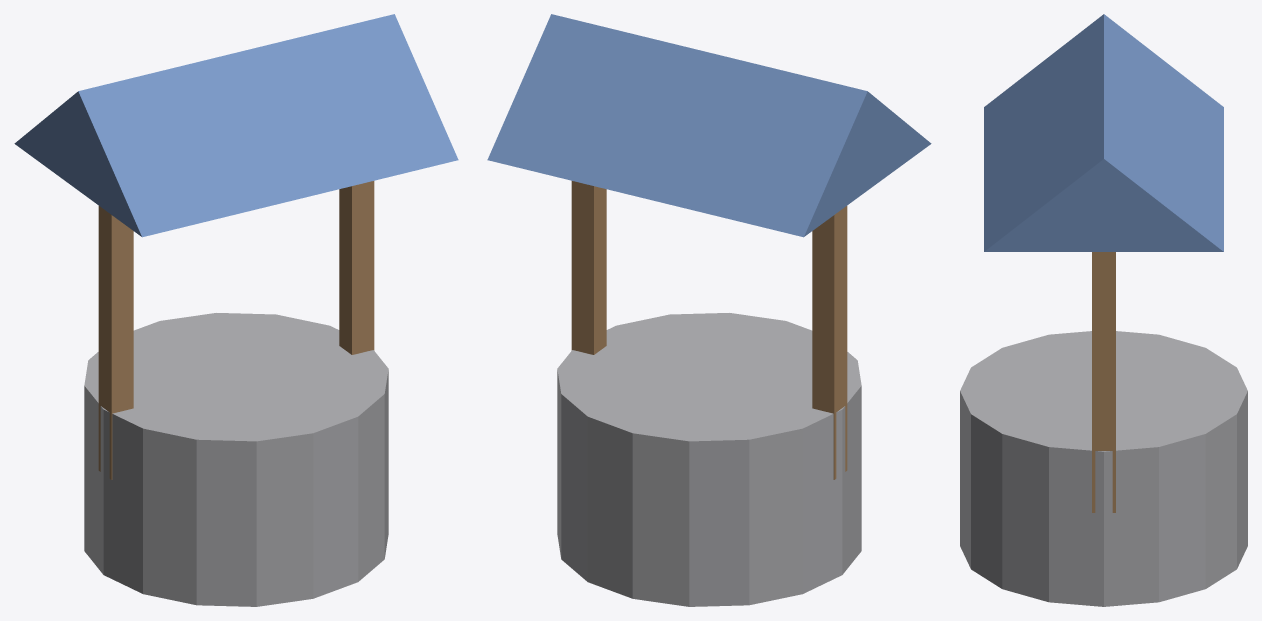
The model's file is well.glb.
3 views of the same model, side by side, from view 1: azimuth 30°, elevation 25°; view 2: azimuth 150°, elevation 25°; view 3: azimuth 270°, elevation 25° (orthographic). The views are drawn at different scales.
Visible parts, largest first — view 1: ring, roof, post-0.38, post0.38; view 2: ring, roof, post-0.38, post0.38; view 3: ring, roof, post0.38.
Boxes of the visible parts, bbox=[...] form: ring: bbox=[84, 313, 388, 606]; roof: bbox=[14, 14, 458, 237]; post-0.38: bbox=[98, 206, 133, 479]; post0.38: bbox=[339, 181, 374, 354]; ring: bbox=[557, 313, 861, 606]; roof: bbox=[487, 14, 931, 237]; post-0.38: bbox=[812, 206, 847, 479]; post0.38: bbox=[571, 181, 606, 354]; ring: bbox=[960, 331, 1247, 606]; roof: bbox=[984, 14, 1223, 251]; post0.38: bbox=[1092, 252, 1115, 512].
Size of the model in its own units: 1 by 1.48 by 0.84.
